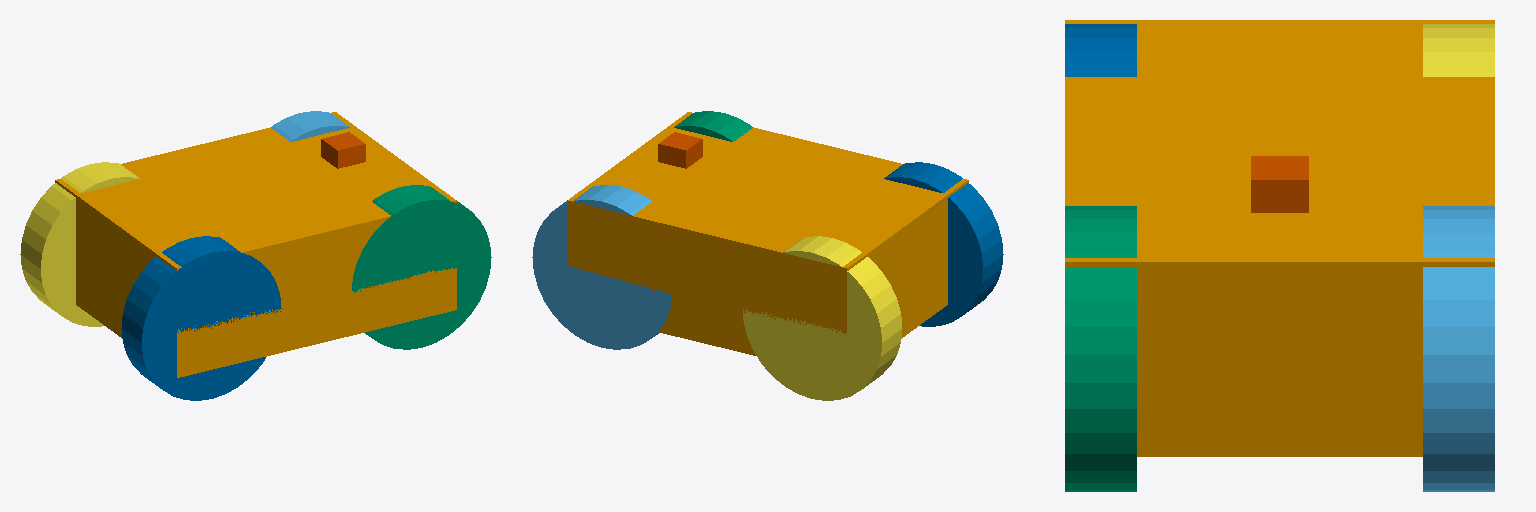
URDF robot description (mock_rover):
<?xml version="1.0" ?>
<!-- =================================================================================== -->
<!-- |    This document was autogenerated by xacro from urdf/rover.urdf.xacro          | -->
<!-- |    EDITING THIS FILE BY HAND IS NOT RECOMMENDED                                 | -->
<!-- =================================================================================== -->
<robot name="mock_rover">
  <link name="base_link">
    <inertial>
      <origin xyz="0 0 0"/>
      <mass value="30"/>
      <inertia ixx="2.0" ixy="0" ixz="0" iyy="2.0" iyz="0" izz="2.0"/>
    </inertial>
    <visual>
      <origin xyz="0 0 0.15"/>
      <geometry>
        <box size="0.8 0.6 0.3"/>
      </geometry>
    </visual>
    <collision>
      <origin xyz="0 0 0.15"/>
      <geometry>
        <box size="0.8 0.6 0.3"/>
      </geometry>
    </collision>
  </link>
  <link name="front_left_wheel">
    <visual>
      <origin rpy="1.5708 0 0"/>
      <geometry>
        <cylinder length="0.10" radius="0.20"/>
      </geometry>
    </visual>
    <collision>
      <origin rpy="1.5708 0 0"/>
      <geometry>
        <cylinder length="0.10" radius="0.20"/>
      </geometry>
    </collision>
    <inertial>
      <mass value="1"/>
      <origin xyz="0 0 0"/>
      <inertia ixx="0.01" ixy="0" ixz="0" iyy="0.01" iyz="0" izz="0.01"/>
    </inertial>
  </link>
  <joint name="front_left_joint" type="continuous">
    <parent link="base_link"/>
    <child link="front_left_wheel"/>
    <origin xyz="0.3 0.25 0.12"/>
    <axis xyz="0 1 0"/>
  </joint>
  <link name="front_right_wheel">
    <visual>
      <origin rpy="1.5708 0 0"/>
      <geometry>
        <cylinder length="0.10" radius="0.20"/>
      </geometry>
    </visual>
    <collision>
      <origin rpy="1.5708 0 0"/>
      <geometry>
        <cylinder length="0.10" radius="0.20"/>
      </geometry>
    </collision>
    <inertial>
      <mass value="1"/>
      <origin xyz="0 0 0"/>
      <inertia ixx="0.01" ixy="0" ixz="0" iyy="0.01" iyz="0" izz="0.01"/>
    </inertial>
  </link>
  <joint name="front_right_joint" type="continuous">
    <parent link="base_link"/>
    <child link="front_right_wheel"/>
    <origin xyz="0.3 -0.25 0.12"/>
    <axis xyz="0 1 0"/>
  </joint>
  <link name="rear_left_wheel">
    <visual>
      <origin rpy="1.5708 0 0"/>
      <geometry>
        <cylinder length="0.10" radius="0.20"/>
      </geometry>
    </visual>
    <collision>
      <origin rpy="1.5708 0 0"/>
      <geometry>
        <cylinder length="0.10" radius="0.20"/>
      </geometry>
    </collision>
    <inertial>
      <mass value="1"/>
      <origin xyz="0 0 0"/>
      <inertia ixx="0.01" ixy="0" ixz="0" iyy="0.01" iyz="0" izz="0.01"/>
    </inertial>
  </link>
  <joint name="rear_left_joint" type="continuous">
    <parent link="base_link"/>
    <child link="rear_left_wheel"/>
    <origin xyz="-0.3 0.25 0.12"/>
    <axis xyz="0 1 0"/>
  </joint>
  <link name="rear_right_wheel">
    <visual>
      <origin rpy="1.5708 0 0"/>
      <geometry>
        <cylinder length="0.10" radius="0.20"/>
      </geometry>
    </visual>
    <collision>
      <origin rpy="1.5708 0 0"/>
      <geometry>
        <cylinder length="0.10" radius="0.20"/>
      </geometry>
    </collision>
    <inertial>
      <mass value="1"/>
      <origin xyz="0 0 0"/>
      <inertia ixx="0.01" ixy="0" ixz="0" iyy="0.01" iyz="0" izz="0.01"/>
    </inertial>
  </link>
  <joint name="rear_right_joint" type="continuous">
    <parent link="base_link"/>
    <child link="rear_right_wheel"/>
    <origin xyz="-0.3 -0.25 0.12"/>
    <axis xyz="0 1 0"/>
  </joint>
  <link name="depth_camera_link">
    <inertial>
      <mass value="0.1"/>
      <origin xyz="0 0 0"/>
      <inertia ixx="0.0001" ixy="0.0" ixz="0.0" iyy="0.0001" iyz="0.0" izz="0.0001"/>
    </inertial>
    <visual>
      <geometry>
        <box size="0.08 0.08 0.05"/>
      </geometry>
    </visual>
    <collision>
      <geometry>
        <box size="0.08 0.08 0.05"/>
      </geometry>
    </collision>
  </link>
  <joint name="depth_camera_joint" type="fixed">
    <parent link="base_link"/>
    <child link="depth_camera_link"/>
    <origin xyz="0.25 0 0.35"/>
  </joint>
  <gazebo reference="depth_camera_link">
    <sensor name="depth_camera" type="depth_camera">
      <always_on>true</always_on>
      <visualize>true</visualize>
      <update_rate>30</update_rate>
      <camera>
        <horizontal_fov>1.9</horizontal_fov>
        <image>
          <width>640</width>
          <height>480</height>
        </image>
        <clip>
          <near>0.1</near>
          <far>20.0</far>
        </clip>
      </camera>
    </sensor>
  </gazebo>
  <gazebo>
    <plugin filename="gz-sim-diff-drive-system" name="gz::sim::systems::DiffDrive">
      <left_joint>front_left_joint</left_joint>
      <left_joint>rear_left_joint</left_joint>
      <right_joint>front_right_joint</right_joint>
      <right_joint>rear_right_joint</right_joint>
      <wheel_separation>0.5</wheel_separation>
      <wheel_radius>0.12</wheel_radius>
      <topic>/cmd_vel</topic>
      <odom_topic>/odom</odom_topic>
      <tf_topic>/tf</tf_topic>
    </plugin>
  </gazebo>
  <ros2_control name="MockRobotHardware" type="system">
    <hardware>
      <plugin>mock_components/GenericSystem</plugin>
    </hardware>
    <joint name="front_left_joint">
      <command_interface name="velocity"/>
      <state_interface name="velocity"/>
      <state_interface name="position"/>
    </joint>
    <joint name="front_right_joint">
      <command_interface name="velocity"/>
      <state_interface name="velocity"/>
      <state_interface name="position"/>
    </joint>
    <joint name="rear_left_joint">
      <command_interface name="velocity"/>
      <state_interface name="velocity"/>
      <state_interface name="position"/>
    </joint>
    <joint name="rear_right_joint">
      <command_interface name="velocity"/>
      <state_interface name="velocity"/>
      <state_interface name="position"/>
    </joint>
  </ros2_control>
</robot>

--- Render facts (derived) ---
3 views of the same robot in one strip: view 1: azimuth 30°, elevation 25°; view 2: azimuth 150°, elevation 25°; view 3: azimuth 270°, elevation 25° (orthographic).
Model mock_rover with 6 links and 5 joints (4 continuous, 1 fixed), rooted at base_link, posed every joint at zero.
Visible links, largest first — view 1: base_link, rear_right_wheel, front_right_wheel, rear_left_wheel, front_left_wheel, depth_camera_link; view 2: base_link, rear_left_wheel, front_left_wheel, rear_right_wheel, front_right_wheel, depth_camera_link; view 3: base_link, front_left_wheel, front_right_wheel, rear_left_wheel, rear_right_wheel, depth_camera_link.
Link boxes in pixels (x1,y1,x2,y2): base_link: (55,112,456,377); rear_right_wheel: (121,236,281,400); front_right_wheel: (352,185,491,349); rear_left_wheel: (20,162,139,326); front_left_wheel: (271,111,349,141); depth_camera_link: (321,132,365,168); base_link: (567,112,968,355); rear_left_wheel: (743,236,902,400); front_left_wheel: (532,185,671,349); rear_right_wheel: (884,162,1003,326); front_right_wheel: (674,111,752,141); depth_camera_link: (658,132,702,168); base_link: (1065,20,1494,456); front_left_wheel: (1423,206,1494,491); front_right_wheel: (1065,206,1136,491); rear_left_wheel: (1423,24,1494,76); rear_right_wheel: (1065,24,1136,76); depth_camera_link: (1251,156,1308,212).
Bounding box of the posed robot: 1 × 0.6 × 0.455 m (x, y, z).
Geometry: primitives only (box / cylinder / sphere), no mesh files.
